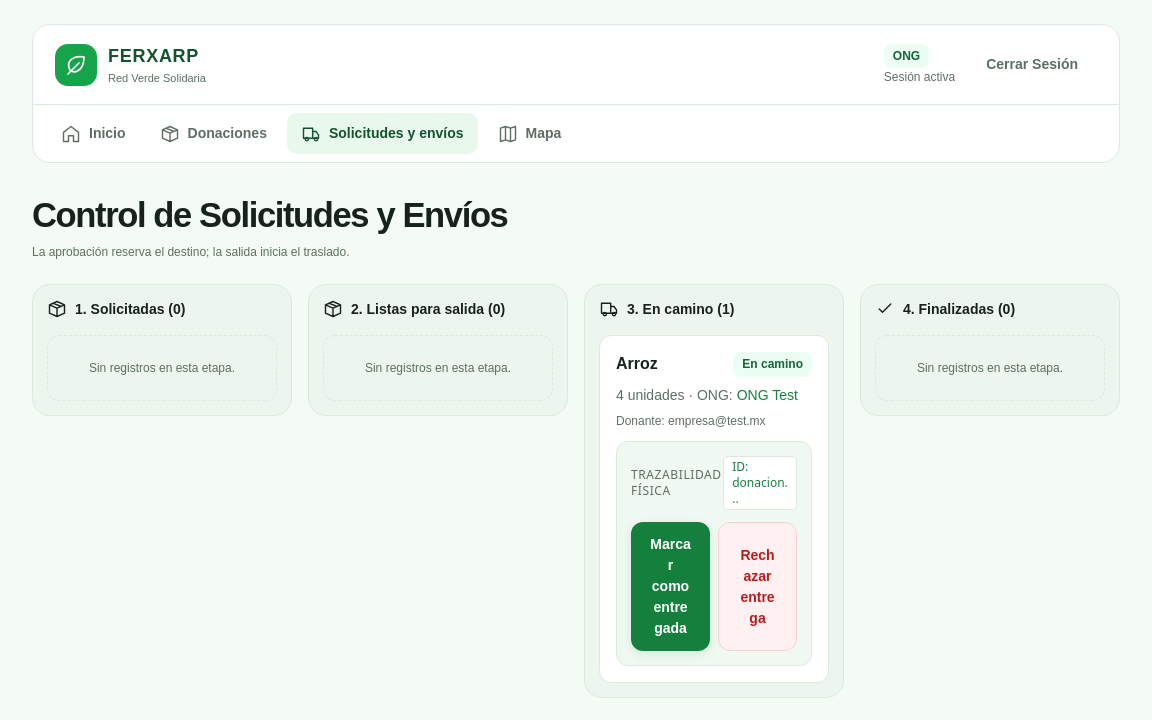
Test: el modal de rechazo se cierra con Escape y Cancelar
Click the button "Rechazar entrega".
click(758, 587)  # box [718, 522, 797, 651]
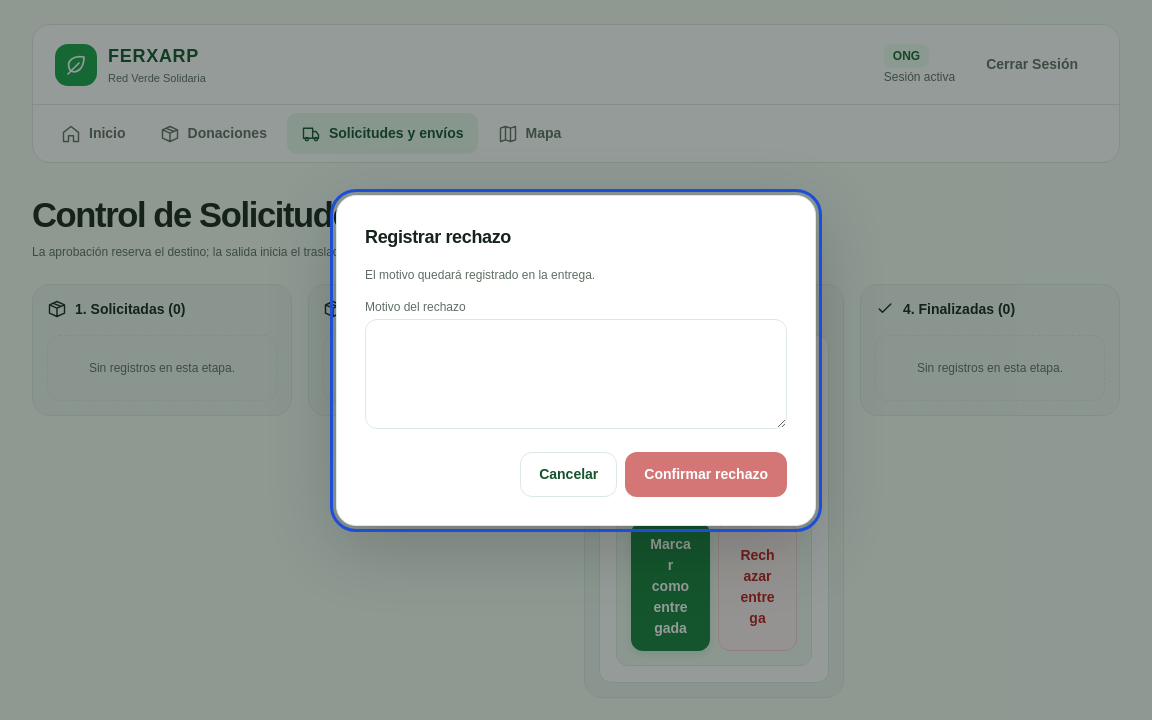
Press Escape
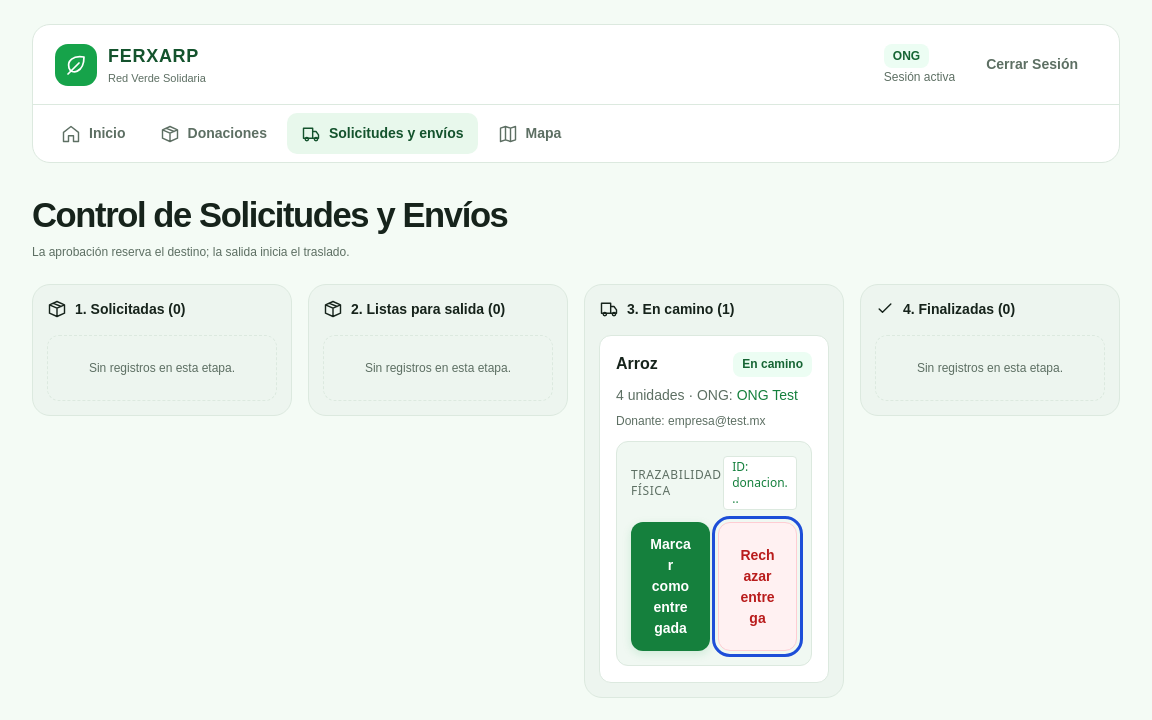
Now the dialog is gone
Click the button "Rechazar entrega".
click(758, 587)  # box [718, 522, 797, 651]
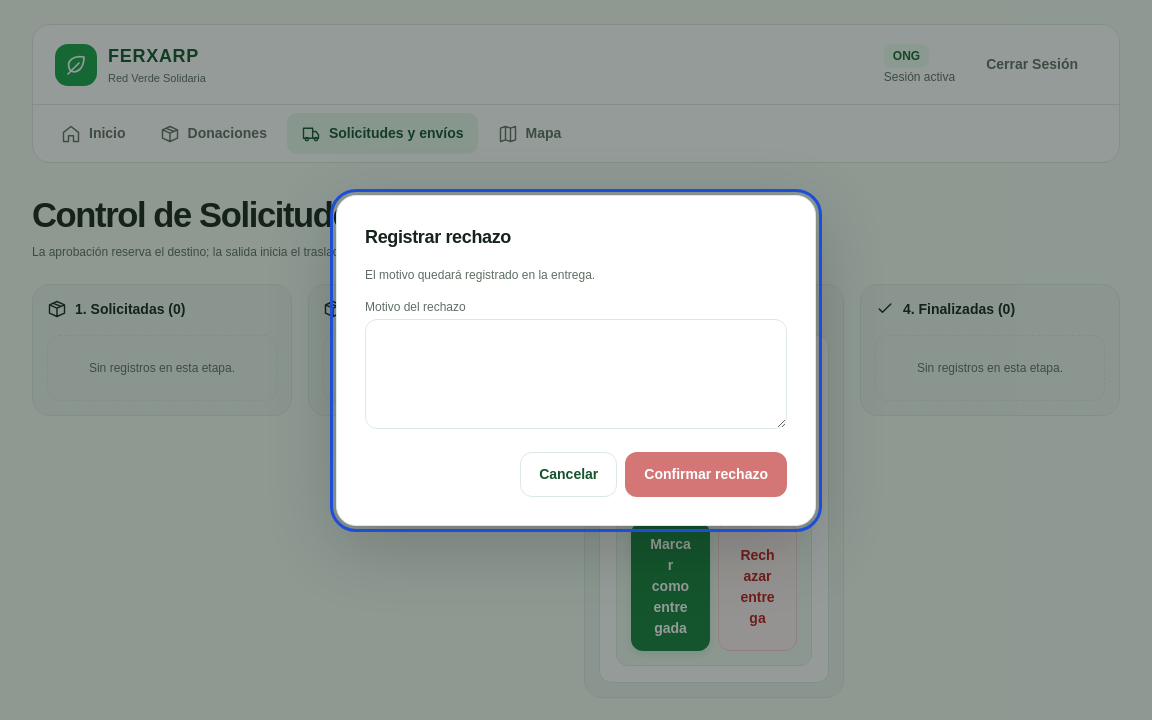
Click the button "Cancelar".
click(569, 474)  # box [520, 452, 617, 496]
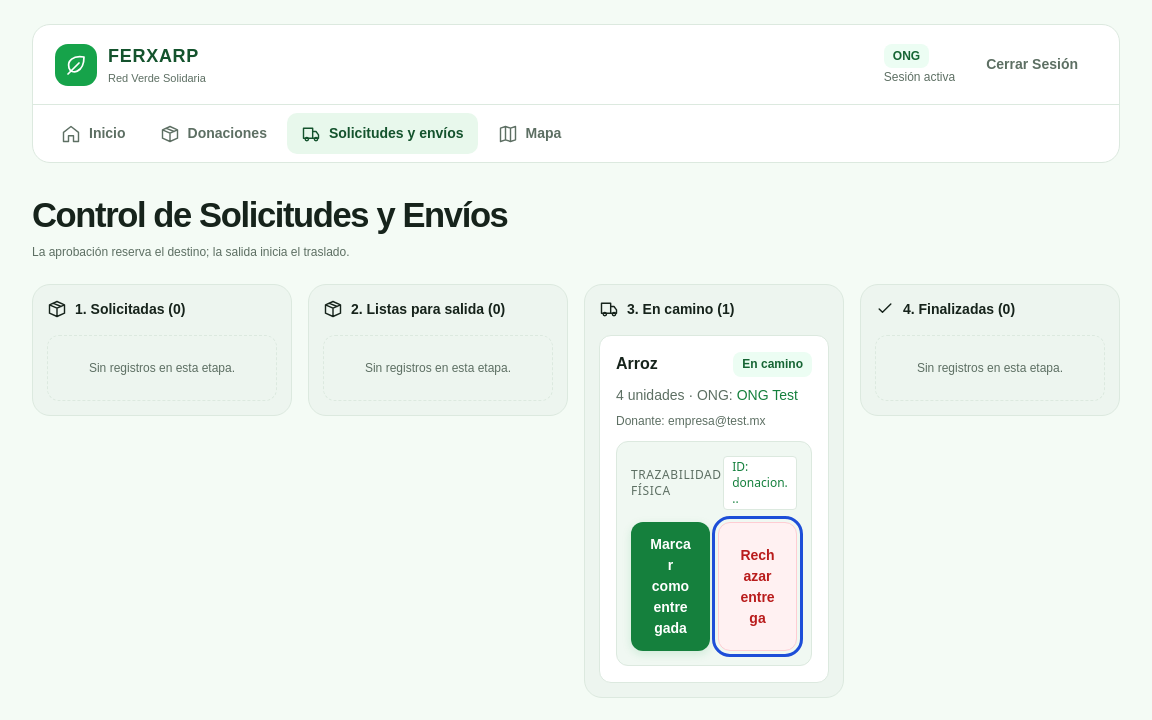
Now the dialog is gone
